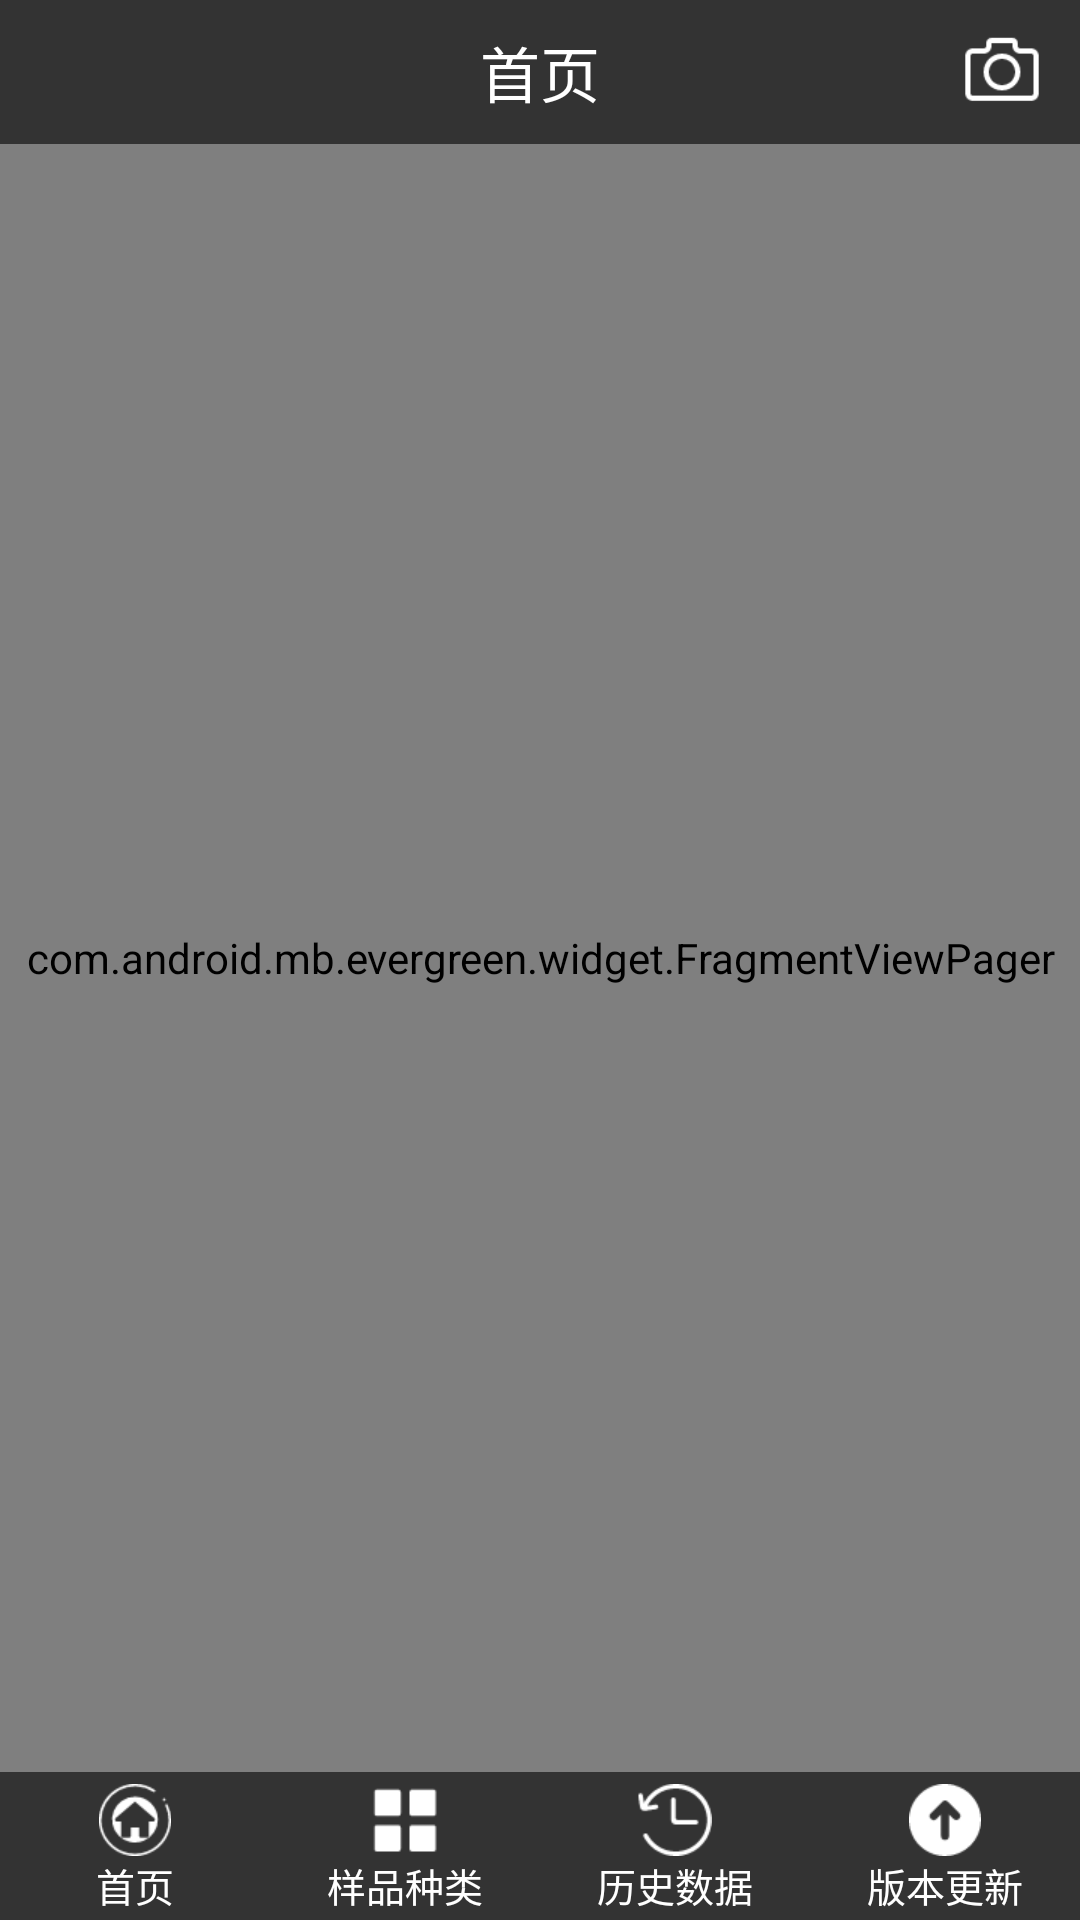

Screen size 1080px x 1920px. Icon name, then its box in pixels as Rect(x1, y1, x2, y2):
camera: Rect(965, 37, 1039, 101)
